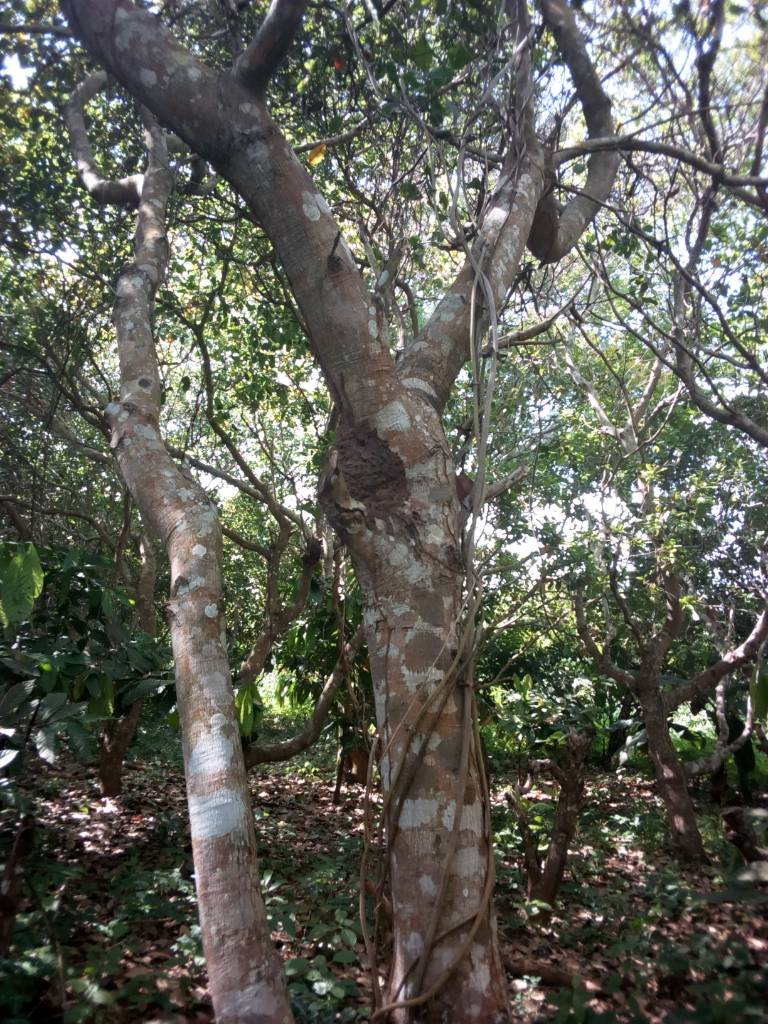Termites: (338, 410, 399, 499)
